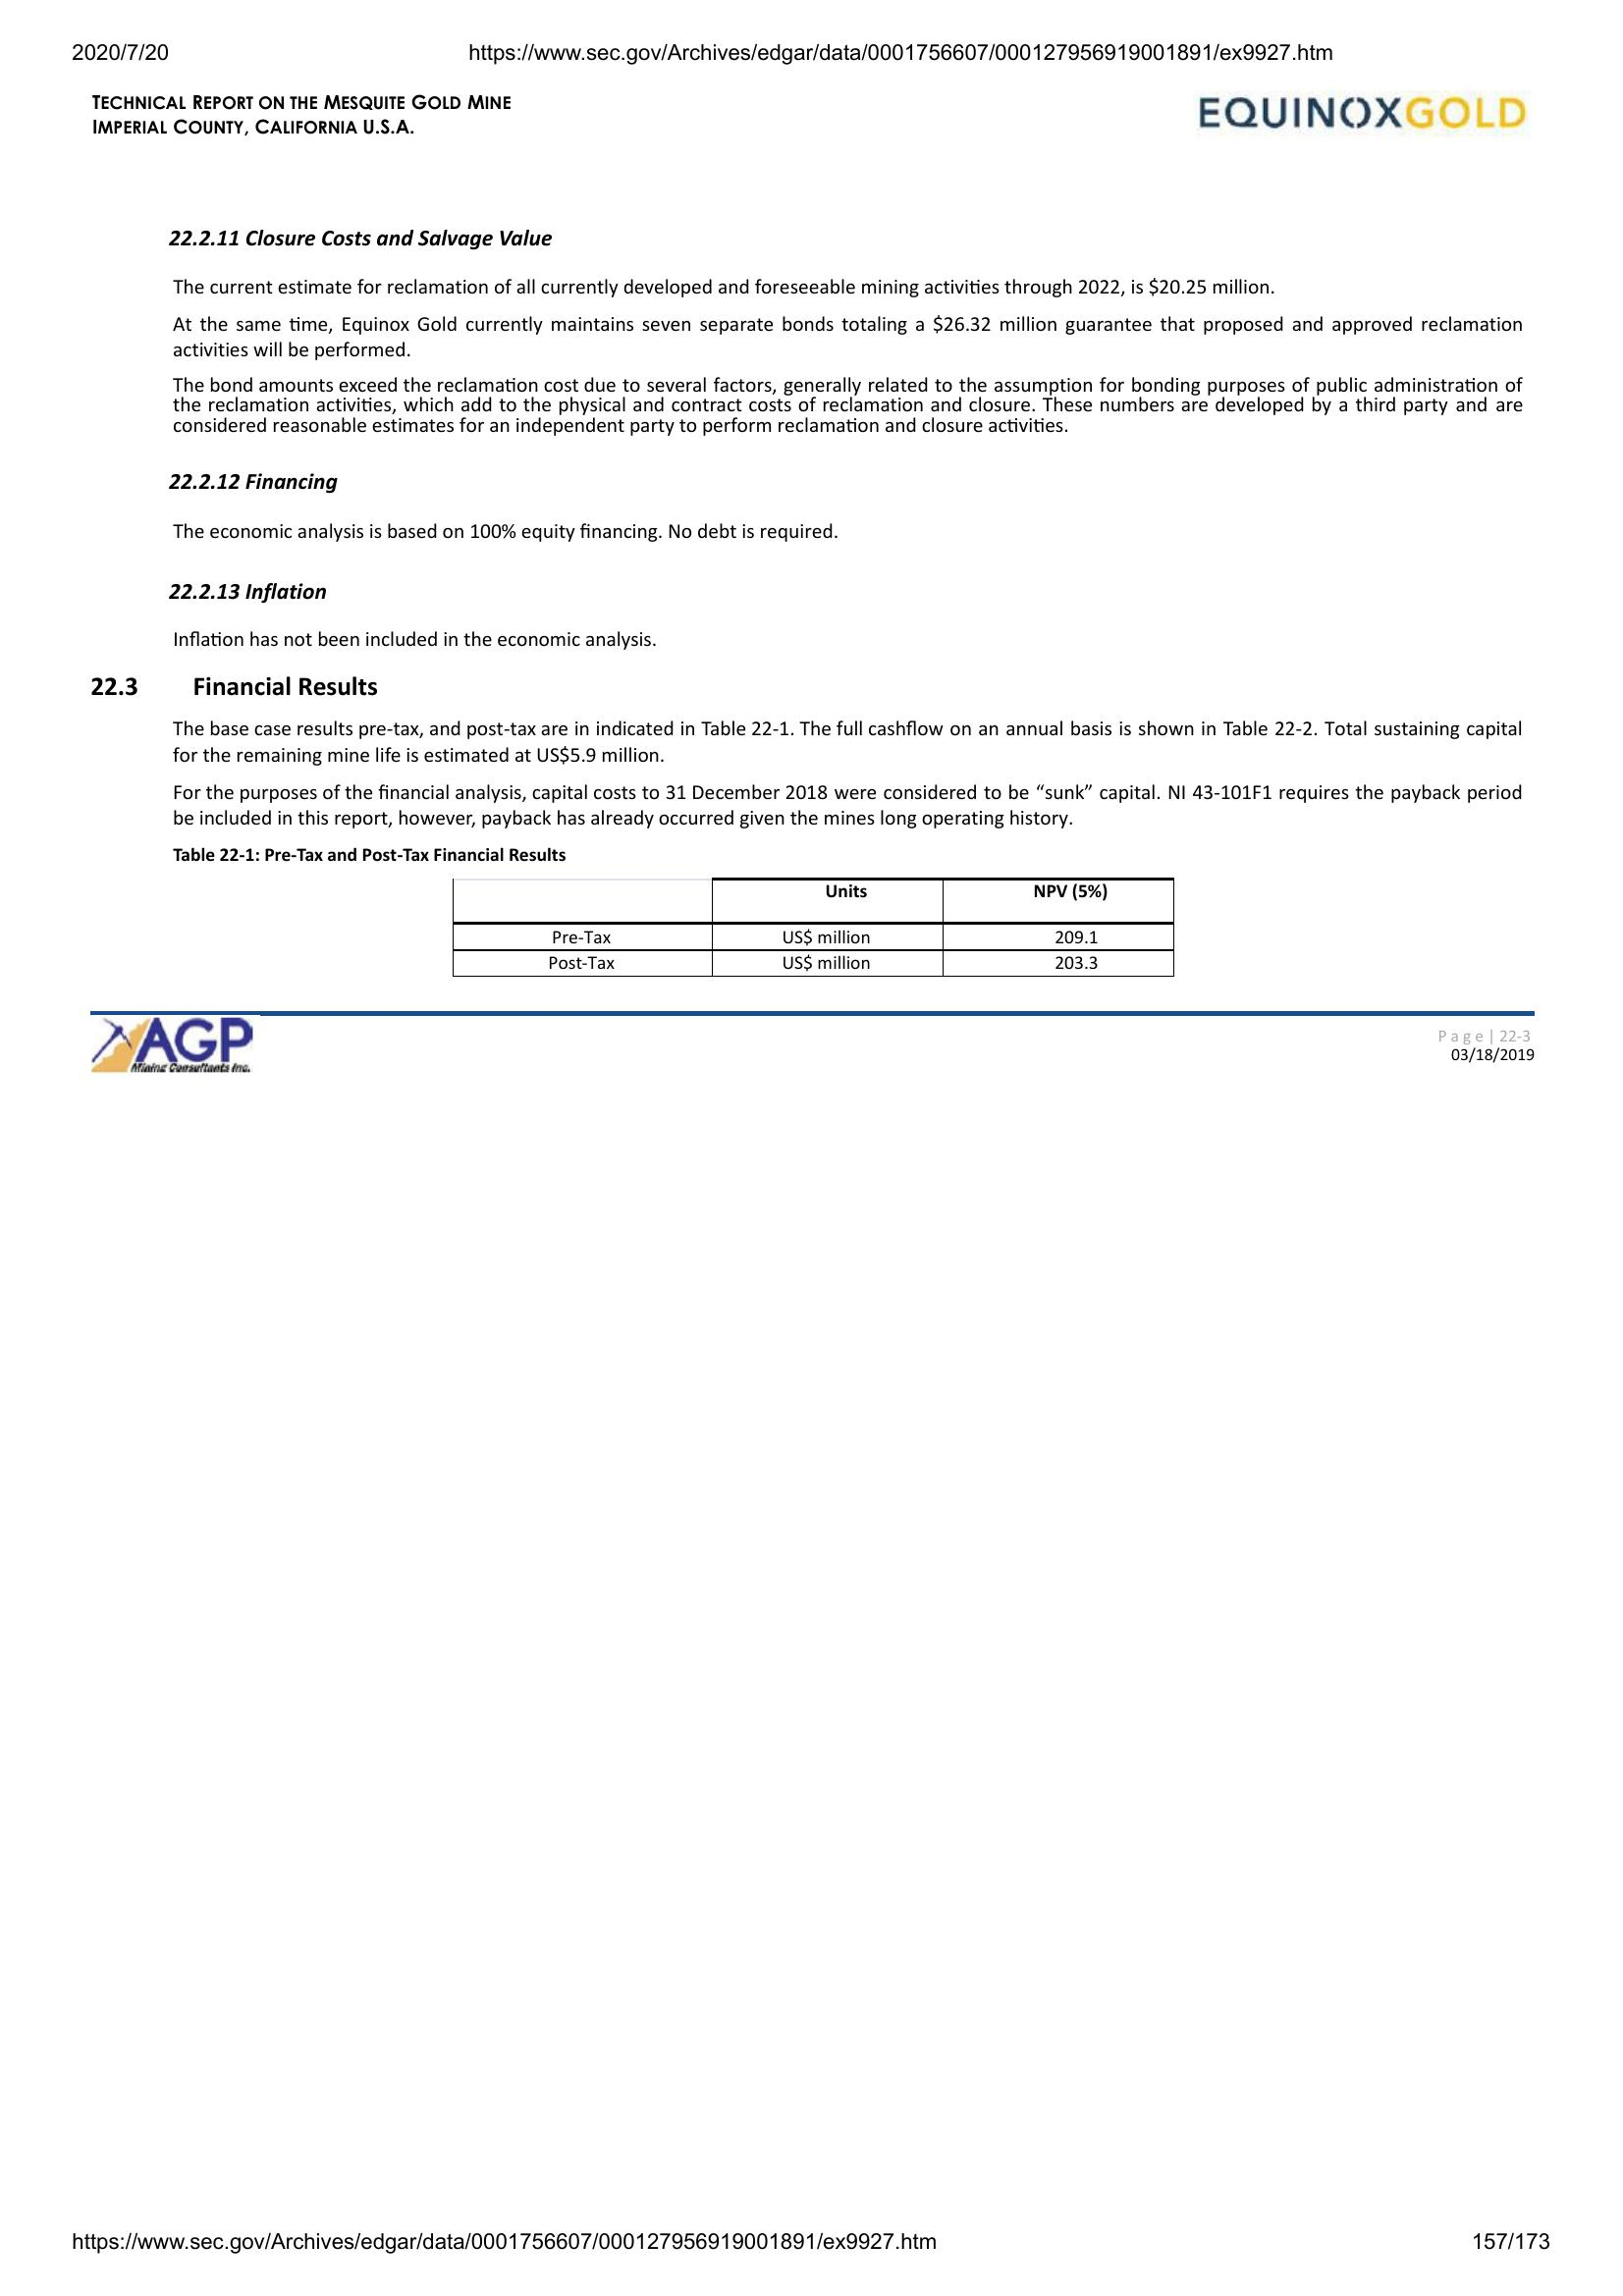table: (446, 869, 1179, 988)
